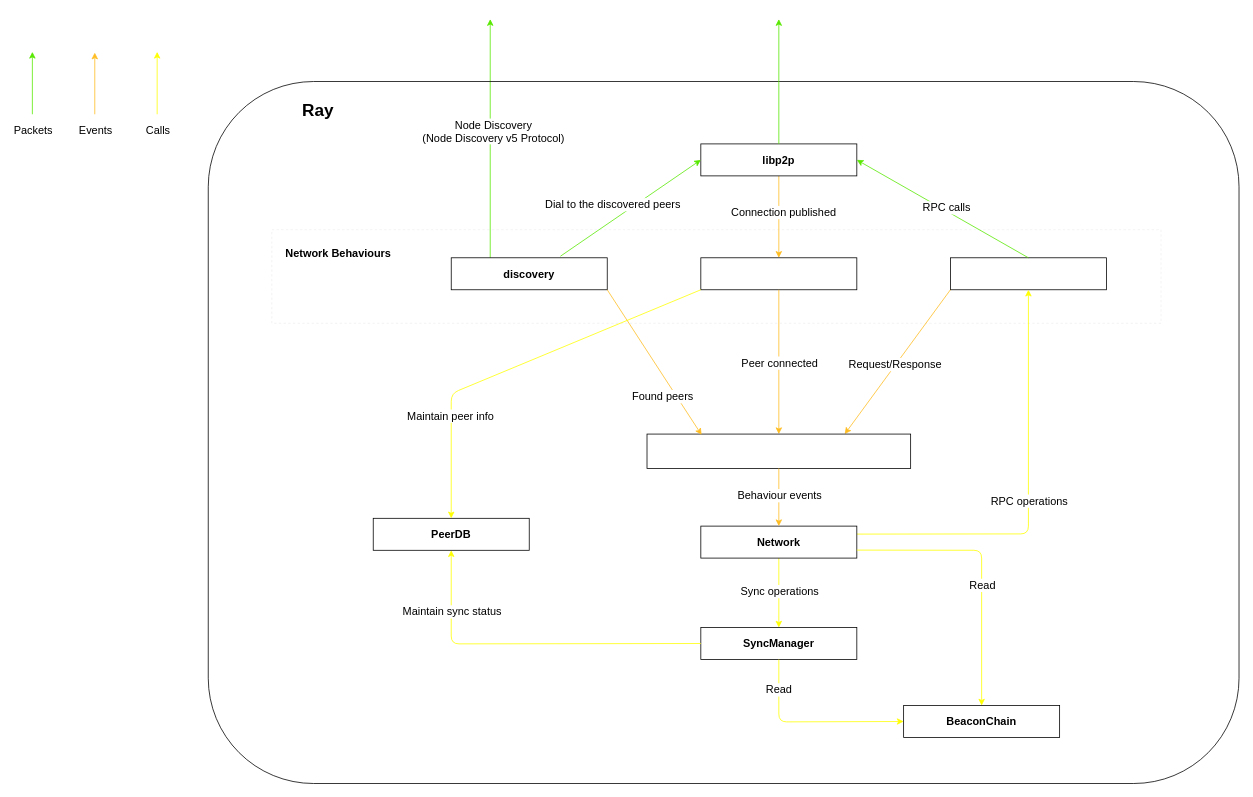
Image size: 1253x797. Some labels were removed from this diagram. The box of each missing label's shape, as (x1, y1, x2, y2) in pixels:
libp2p::Swarm: (646, 433, 911, 468)
peer_manager: (700, 257, 857, 290)
rpc: (950, 257, 1106, 290)
